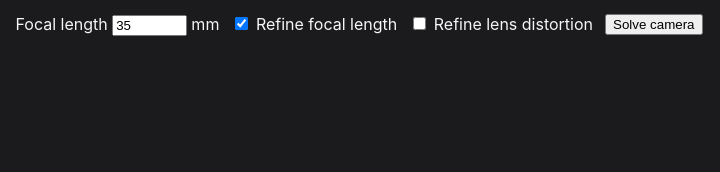
it: SolvePanel › needs a focal length guess
Clear the number field named "Focal length guess" at (150, 26), box [112,15,187,36]
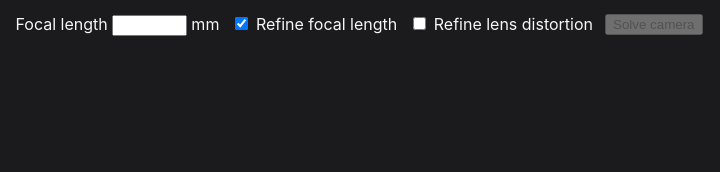
Result: the button "Solve camera" is disabled at [605,14,702,34]
